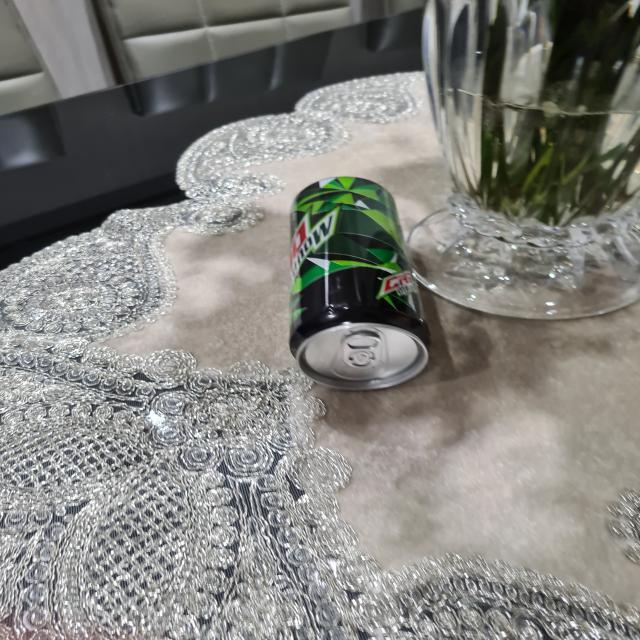can: (287, 176, 432, 394)
